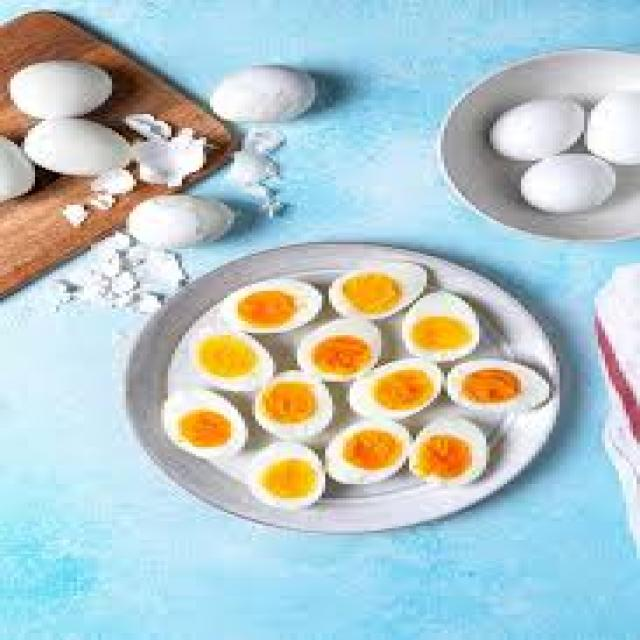boiled egg: (153, 256, 559, 522), (210, 66, 318, 123), (126, 194, 234, 251), (25, 119, 132, 176), (490, 98, 584, 162), (7, 61, 111, 118), (522, 154, 615, 214), (585, 91, 639, 165)
